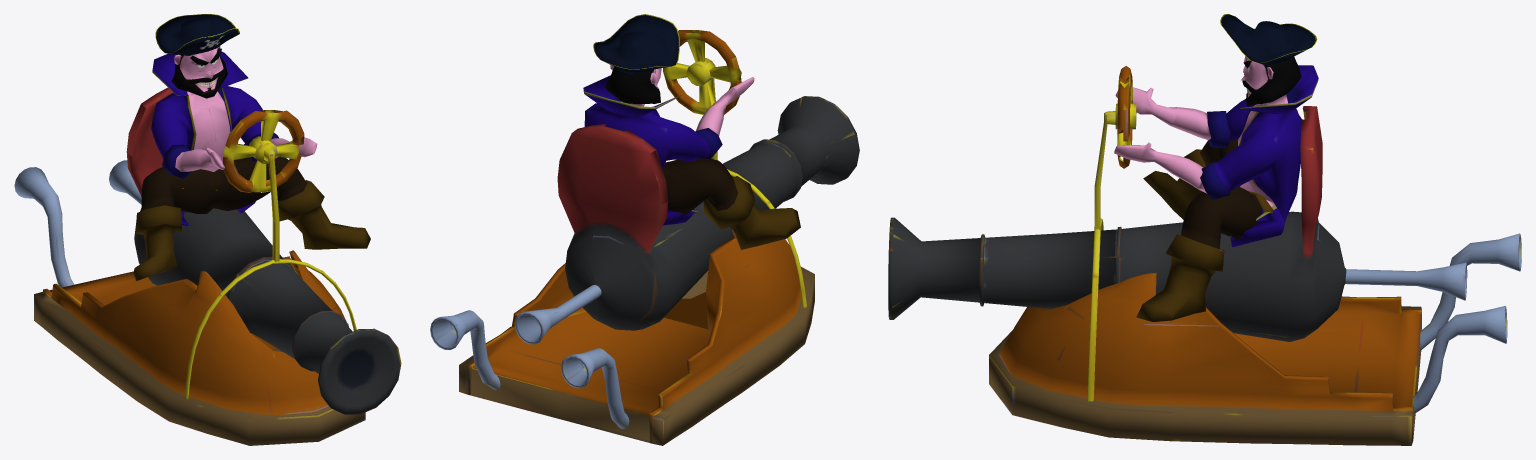
The model's file is pirataGiroIzq_000164.obj.
The picture shows the model from 3 angles, left to right: view 1: azimuth 30°, elevation 25°; view 2: azimuth 150°, elevation 25°; view 3: azimuth 270°, elevation 25°; orthographic projection. The views are drawn at different scales.
Parts seen in each view (by area): view 1: carro_pirata_carro_pirata.001, Pirata_PirataH_Pirata_PirataH.001; view 2: carro_pirata_carro_pirata.001, Pirata_PirataH_Pirata_PirataH.001; view 3: carro_pirata_carro_pirata.001, Pirata_PirataH_Pirata_PirataH.001.
Boxes of the visible parts, bbox=[...] form: carro_pirata_carro_pirata.001: bbox=[14, 87, 401, 445]; Pirata_PirataH_Pirata_PirataH.001: bbox=[133, 14, 370, 281]; carro_pirata_carro_pirata.001: bbox=[430, 30, 859, 445]; Pirata_PirataH_Pirata_PirataH.001: bbox=[583, 14, 800, 249]; carro_pirata_carro_pirata.001: bbox=[888, 66, 1521, 445]; Pirata_PirataH_Pirata_PirataH.001: bbox=[1114, 14, 1318, 321].
Size of the model in its own units: 5.66 by 7.71 by 12.1.
2 materials, 2 textured.
